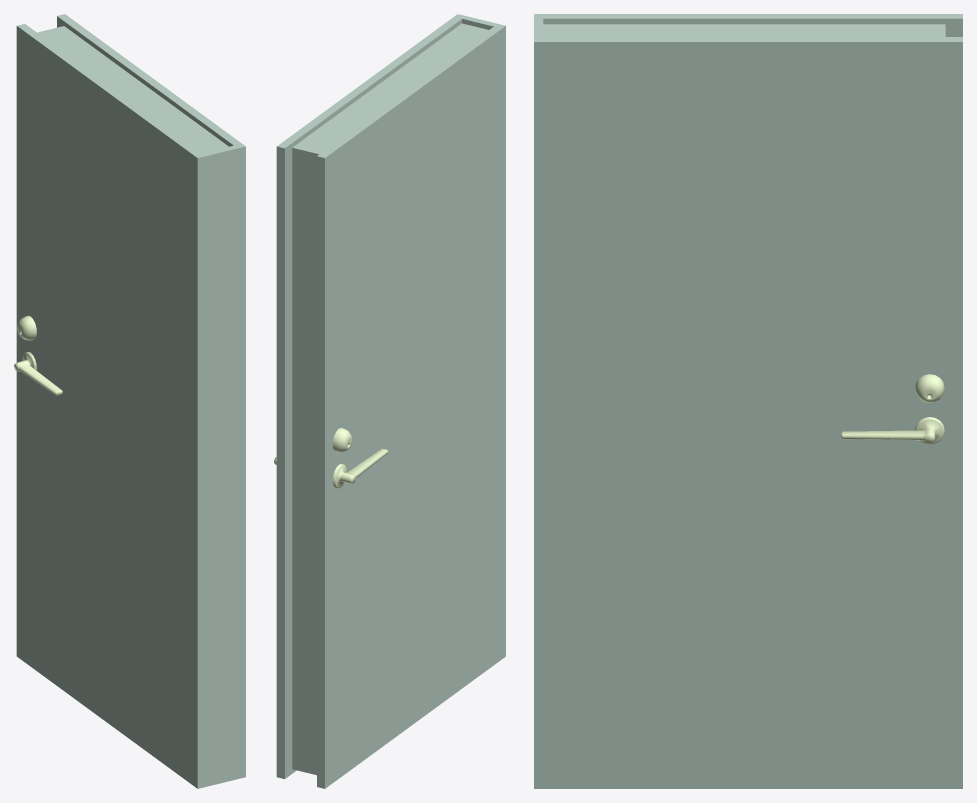
Rendered from Door.FBX.
The picture shows the model from 3 angles, left to right: view 1: azimuth 30°, elevation 25°; view 2: azimuth 150°, elevation 25°; view 3: azimuth 270°, elevation 25°; orthographic projection. The views are drawn at different scales.
Visible parts, largest first — view 1: Door; view 2: Door; view 3: Door.
Boxes of the visible parts, box(x1,y1,x2,y2) form: Door: box(14, 14, 245, 788); Door: box(274, 14, 505, 788); Door: box(534, 14, 962, 788).
Bounding box in the file's own units: 32.27 × 130 × 250.
